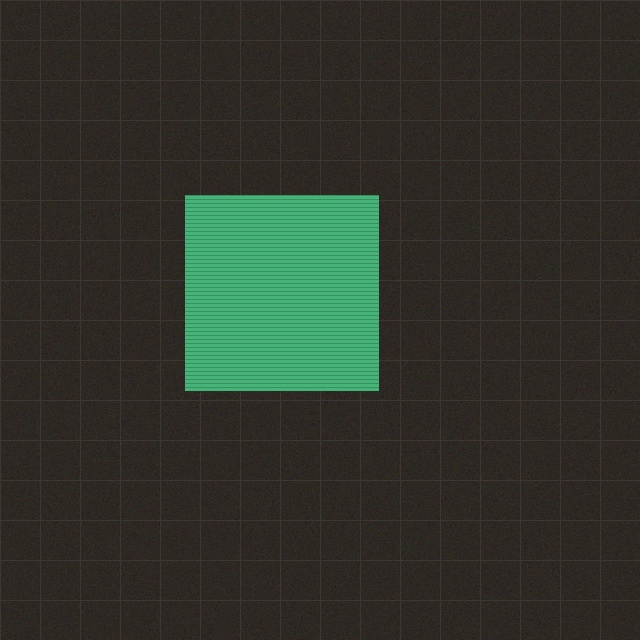normal: (185, 195, 378, 390)
